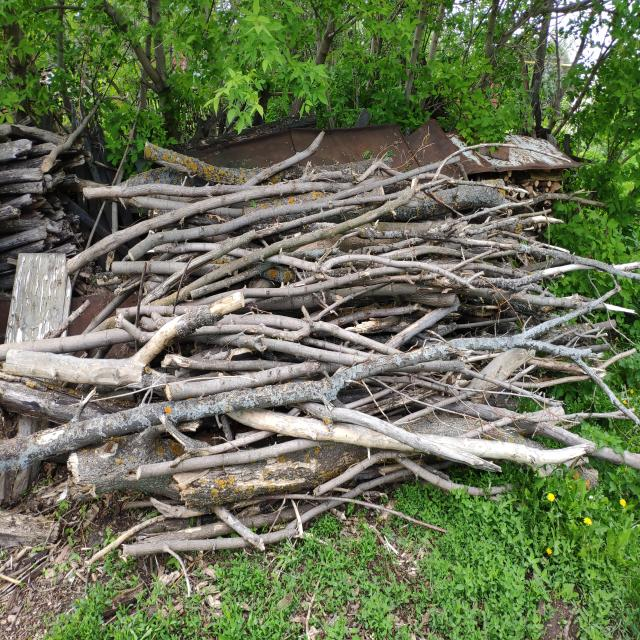restos de madeira: (0, 394, 177, 492), (0, 306, 299, 364), (0, 110, 107, 261), (172, 444, 384, 516), (178, 216, 395, 283), (70, 192, 243, 266), (386, 278, 512, 376), (136, 279, 378, 326), (460, 251, 639, 300), (86, 514, 254, 566), (7, 347, 182, 395), (322, 407, 454, 462), (392, 366, 532, 416), (145, 367, 312, 405), (474, 300, 620, 343), (237, 128, 327, 188), (317, 352, 415, 404), (224, 409, 341, 446), (302, 250, 434, 282), (393, 463, 502, 499), (244, 190, 341, 230), (315, 452, 397, 496), (429, 437, 600, 458), (84, 181, 226, 205), (502, 368, 632, 393), (52, 107, 101, 160), (457, 198, 544, 224), (574, 442, 640, 476), (373, 193, 443, 223), (143, 142, 202, 176), (488, 282, 526, 330), (182, 165, 260, 186), (0, 158, 50, 186), (68, 385, 98, 426), (136, 373, 166, 408), (208, 290, 247, 316), (562, 409, 639, 422), (488, 181, 531, 203), (0, 138, 35, 164), (66, 451, 80, 486), (570, 196, 610, 208)
